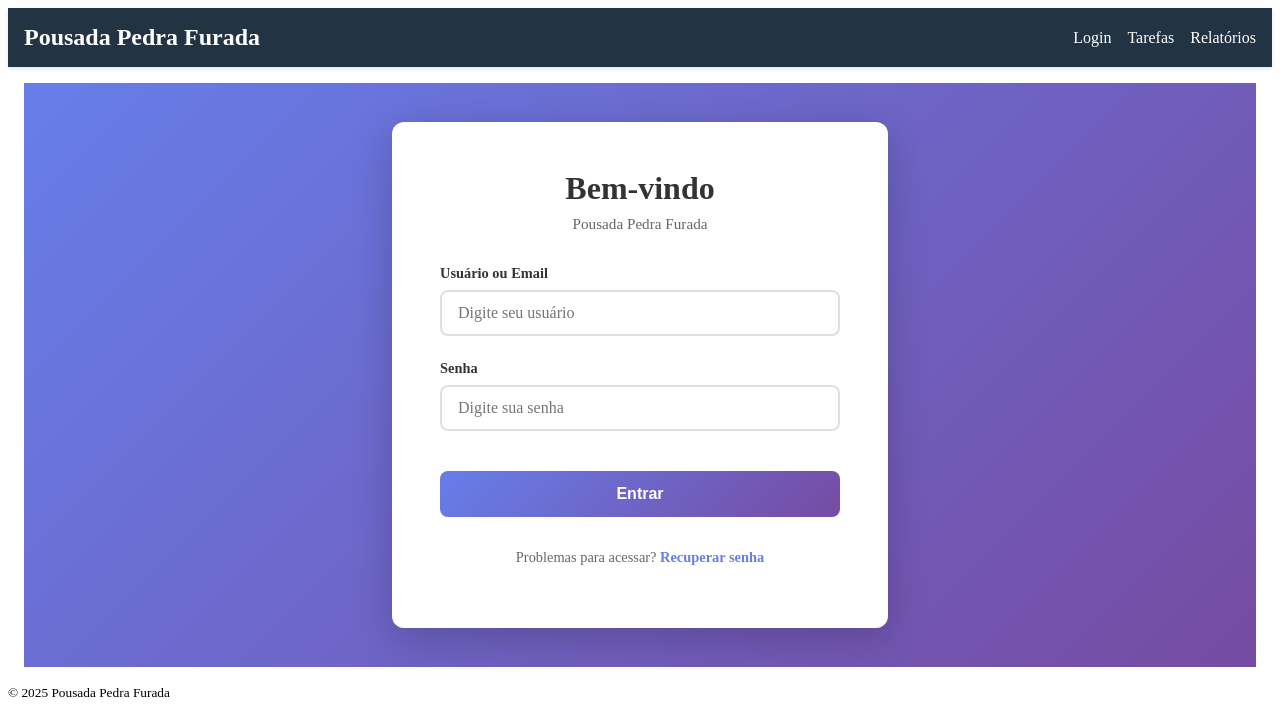
Test: LoginPage.jsx — Autenticação de usuário › deve exibir erro se usuário estiver vazio
Click the button "Entrar" at (640, 494), box left=440, top=471, right=840, bottom=517
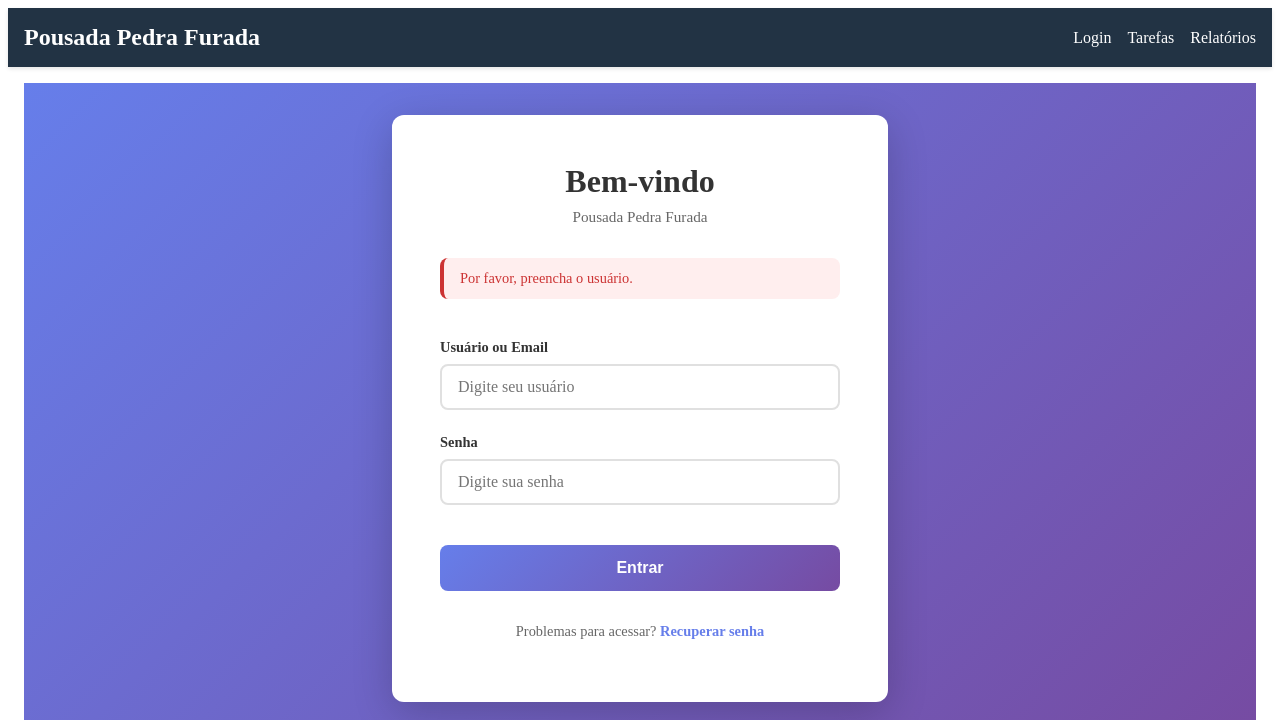
Expected: the text "Por favor, preencha o usuário." is shown, left=440, top=258, right=840, bottom=299
